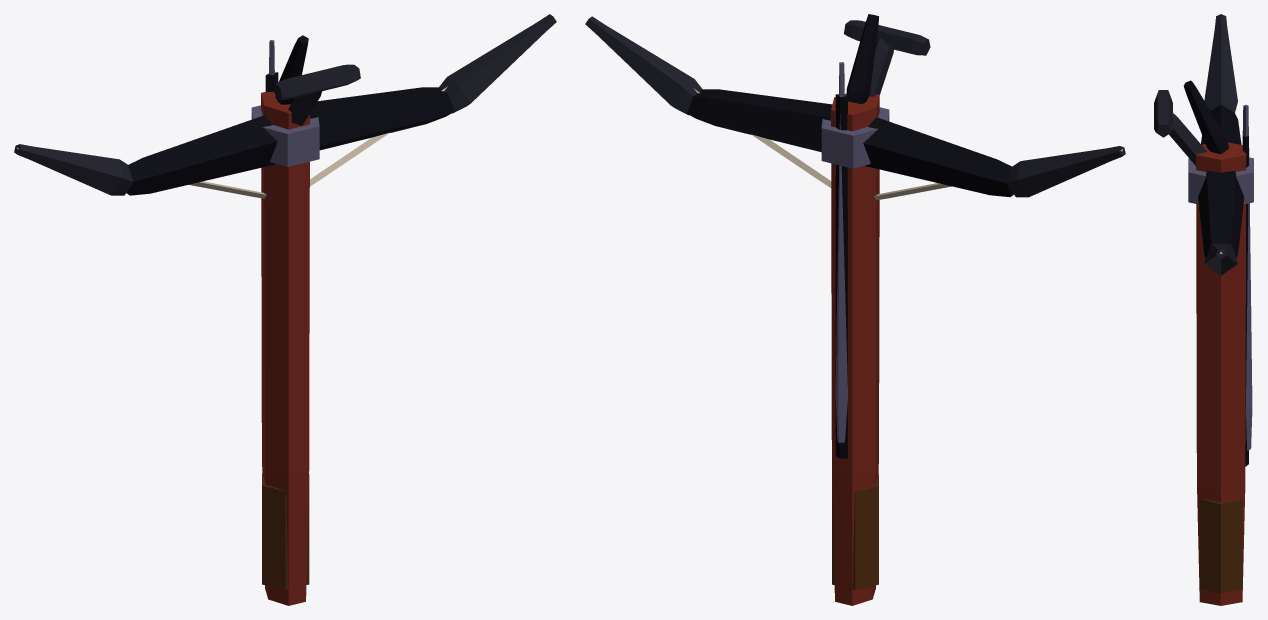
File: wpn_crossbow_9.glb
3 views of the same model, side by side, from view 1: azimuth 30°, elevation 25°; view 2: azimuth 150°, elevation 25°; view 3: azimuth 270°, elevation 25° (orthographic). The views are drawn at different scales.
Visible parts, largest first — view 1: wpn_crossbow_9; view 2: wpn_crossbow_9; view 3: wpn_crossbow_9.
Part boxes in pixels (x1,y1,x2,y2): wpn_crossbow_9: (14,14,556,605); wpn_crossbow_9: (585,14,1125,605); wpn_crossbow_9: (1154,14,1253,605).
Size of the model in its own units: 0.6853 by 0.6925 by 0.1212.
